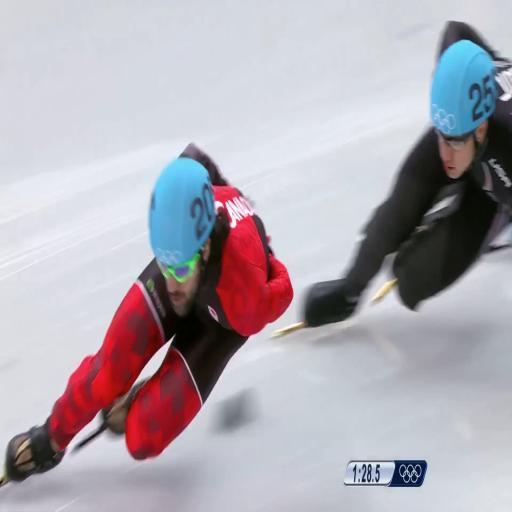Skater: (2, 145, 293, 483), (299, 22, 511, 327)
